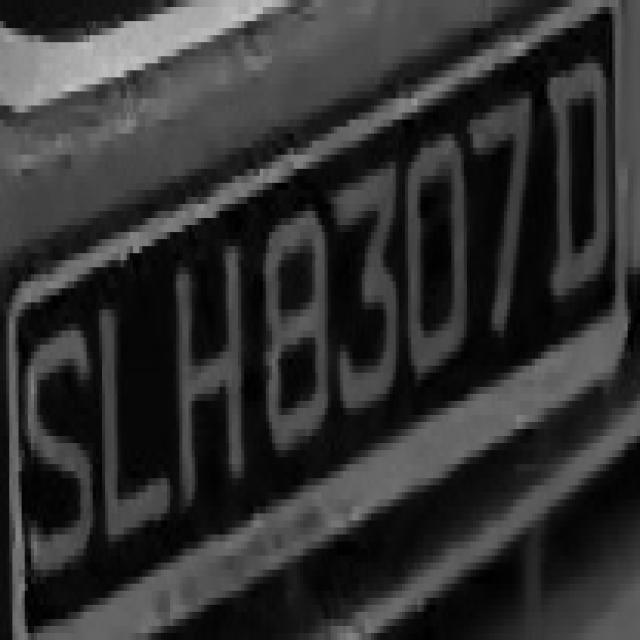0: (399, 127, 473, 408)
3: (328, 169, 405, 415)
7: (464, 91, 532, 338)
8: (263, 183, 337, 471)
D: (538, 49, 618, 317)
H: (170, 239, 254, 528)
L: (96, 267, 176, 556)
S: (15, 288, 96, 570)
